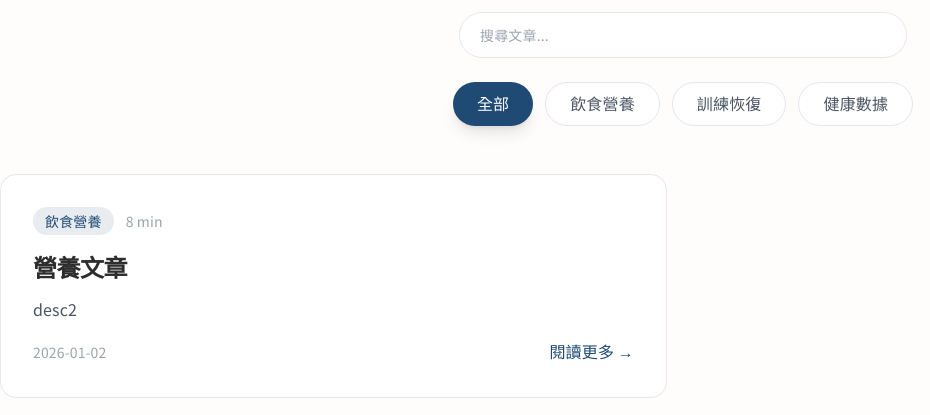
Test: BlogFilter › shows empty state when no posts match the selected category
Click the button "健康數據" at [856, 104], box x1=798 y1=82 x2=913 y2=126
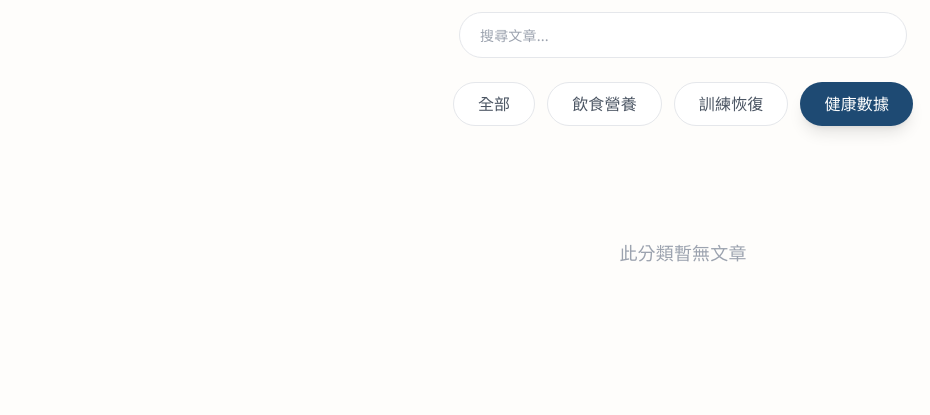
Now the text "此分類暫無文章" is shown, box x1=619 y1=239 x2=746 y2=265
